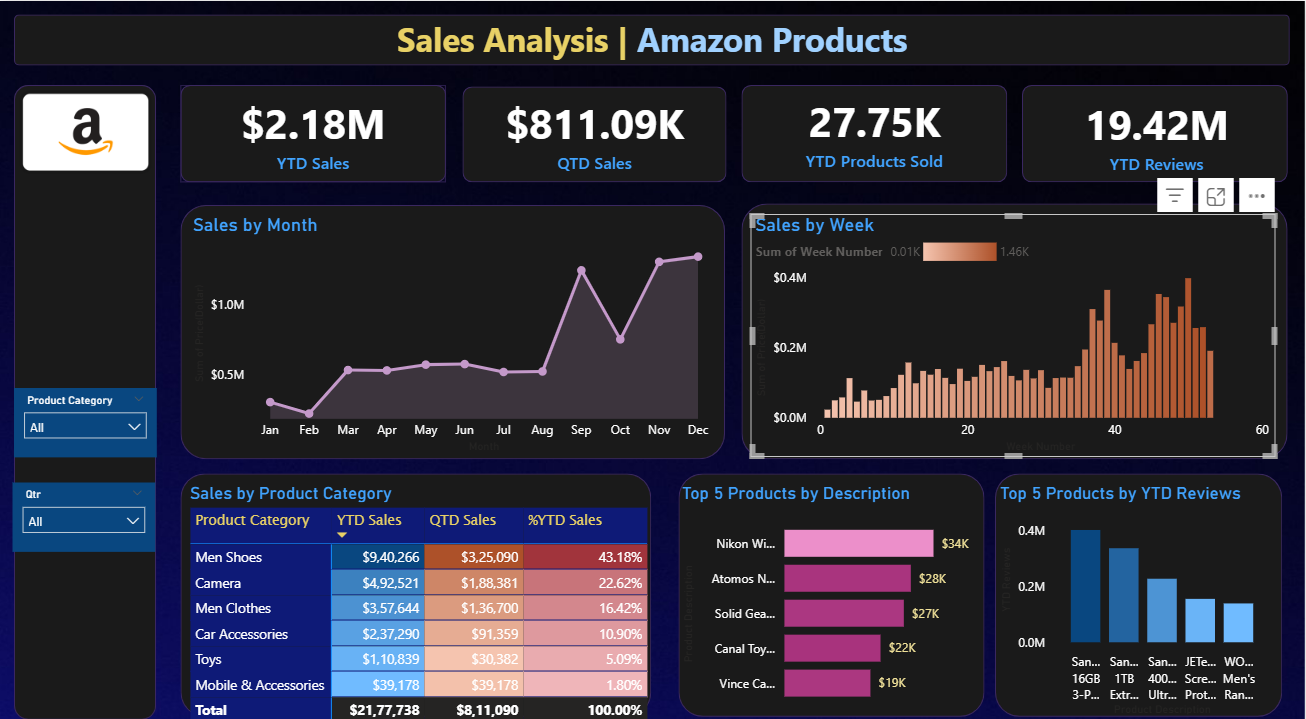

Layout of this report page (visuals, bound fields, positions):
{"tool":"powerbi","page":{"name":"Page 1","canvas":[1280,720],"ordinal":0},"visuals":[{"type":"shape","box":[15.1,13.6,1250.7,50],"z":0},{"type":"textbox","box":[384.6,10.6,511.8,53],"z":1000},{"type":"shape","box":[15.1,81.8,139.3,622.3],"z":2000},{"type":"shape","box":[178.1,81.8,260.4,95.4],"z":3000},{"type":"card","fields":{"Values":["Amazon_Data.YTD Sales"]},"box":[178.5,83.1,260,95.4],"z":4000},{"type":"shape","box":[453.7,83.3,258.9,93.9],"z":5000},{"type":"shape","box":[727.8,81.8,260.4,95.4],"z":6000},{"type":"shape","box":[1003.4,81.8,260.4,95.4],"z":7000},{"type":"card","fields":{"Values":["Amazon_Data.QTD Sales"]},"box":[453.8,83.1,258.5,95.4],"z":8000},{"type":"card","fields":{"Values":["Amazon_Data.YTD Products Sold"]},"box":[727.7,81.5,260,93.8],"z":9000},{"type":"card","fields":{"Values":["Amazon_Data.YTD Reviews"]},"box":[1003.9,83.3,260.4,93.9],"z":10000},{"type":"shape","box":[178.5,200,533.8,249.2],"z":11000},{"type":"areaChart","title":"Sales by Month","fields":{"Category":["DateTable.Month"],"Y":["Sum(Amazon_Data.Price(Dollar))"]},"box":[184.6,209.2,520,238.5],"z":12000},{"type":"shape","box":[727.7,198.5,535.4,250.8],"z":13000},{"type":"columnChart","title":"Sales by Week","fields":{"Category":["DateTable.Week Number"],"Y":["Sum(Amazon_Data.Price(Dollar))"]},"box":[736.9,209.2,513.8,238.5],"z":14000},{"type":"shape","box":[178.5,463.1,461.5,238.5],"z":15000},{"type":"pivotTable","title":"Sales by Product Category","fields":{"Rows":["Amazon_Data.Product Category"],"Values":["Amazon_Data.YTD Sales1","Amazon_Data.QTD Sales","Amazon_Data.YTD Sales"]},"box":[183.1,472.3,463.1,240],"z":16000},{"type":"shape","box":[666.2,463.1,300,238.5],"z":17000},{"type":"shape","box":[976.9,463.1,281.5,238.5],"z":18000},{"type":"clusteredBarChart","title":"Top 5 Products by Description","fields":{"Category":["Amazon_Data.Product Description"],"Y":["Amazon_Data.YTD Sales"]},"box":[664.6,472.3,301.5,229.2],"z":19000},{"type":"clusteredColumnChart","title":"Top 5 Products by YTD Reviews","fields":{"Category":["Amazon_Data.Product Description"],"Y":["Amazon_Data.YTD Reviews"]},"box":[976.9,472.3,273.8,232.3],"z":20000},{"type":"slicer","fields":{"Values":["Amazon_Data.Product Category"]},"box":[15.4,380,140,67.7],"z":21000},{"type":"slicer","fields":{"Values":["DateTable.Qtr"]},"box":[13.8,472.3,140,67.7],"z":22000},{"type":"image","box":[7.7,60,155.4,136.9],"z":23000}]}

Visuals, with their boxes in screenshot pixels (x1, y1, x2, y2), scaled from the page's 1280x720 canvas onto the 1306x719 screenshot:
shape: pyautogui.locateOnScreen(15, 14, 1292, 64)
textbox: pyautogui.locateOnScreen(392, 11, 915, 64)
shape: pyautogui.locateOnScreen(15, 82, 158, 703)
shape: pyautogui.locateOnScreen(182, 82, 447, 177)
card - Amazon_Data.YTD Sales: pyautogui.locateOnScreen(182, 83, 447, 178)
shape: pyautogui.locateOnScreen(463, 83, 727, 177)
shape: pyautogui.locateOnScreen(743, 82, 1008, 177)
shape: pyautogui.locateOnScreen(1024, 82, 1289, 177)
card - Amazon_Data.QTD Sales: pyautogui.locateOnScreen(463, 83, 727, 178)
card - Amazon_Data.YTD Products Sold: pyautogui.locateOnScreen(742, 81, 1008, 175)
card - Amazon_Data.YTD Reviews: pyautogui.locateOnScreen(1024, 83, 1290, 177)
shape: pyautogui.locateOnScreen(182, 200, 727, 449)
"Sales by Month" areaChart: pyautogui.locateOnScreen(188, 209, 719, 447)
shape: pyautogui.locateOnScreen(742, 198, 1289, 449)
"Sales by Week" columnChart: pyautogui.locateOnScreen(752, 209, 1276, 447)
shape: pyautogui.locateOnScreen(182, 462, 653, 701)
"Sales by Product Category" pivotTable: pyautogui.locateOnScreen(187, 472, 659, 711)
shape: pyautogui.locateOnScreen(680, 462, 986, 701)
shape: pyautogui.locateOnScreen(997, 462, 1284, 701)
"Top 5 Products by Description" clusteredBarChart: pyautogui.locateOnScreen(678, 472, 986, 701)
"Top 5 Products by YTD Reviews" clusteredColumnChart: pyautogui.locateOnScreen(997, 472, 1276, 704)
slicer - Amazon_Data.Product Category: pyautogui.locateOnScreen(16, 379, 159, 447)
slicer - DateTable.Qtr: pyautogui.locateOnScreen(14, 472, 157, 539)
image: pyautogui.locateOnScreen(8, 60, 166, 197)
